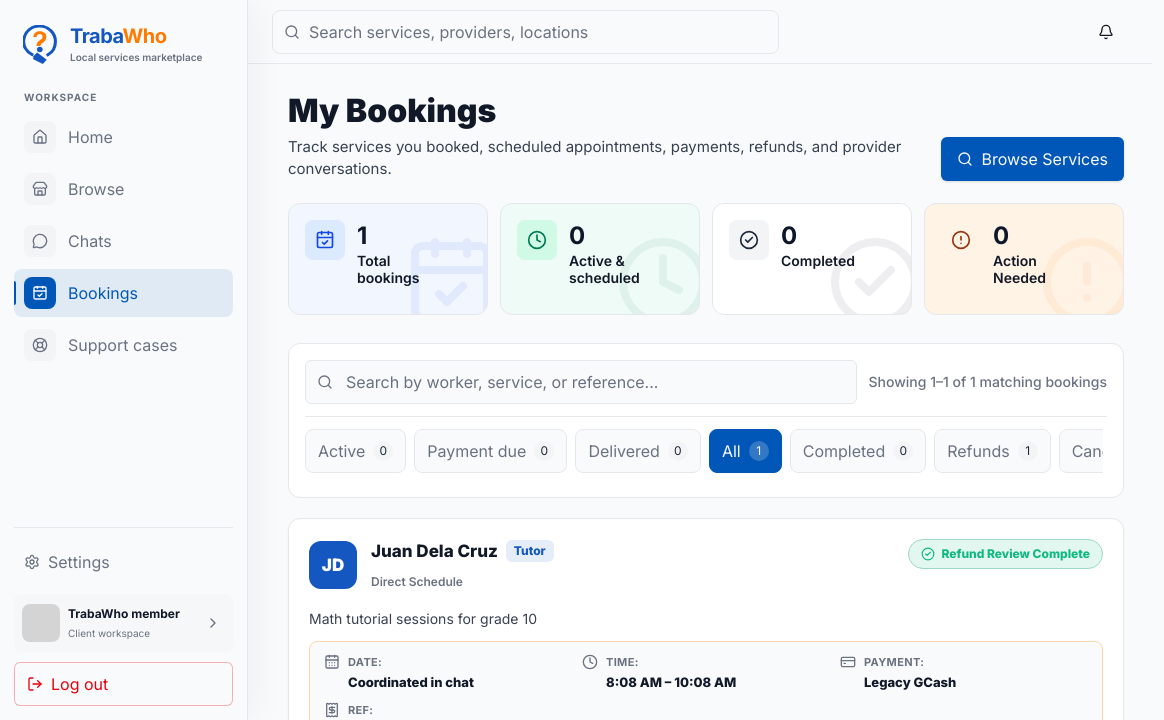
Test case: MyBookings Redesign Component › shows a completed sandbox refund in the purchases Refunds tab and refreshes on selection
Check: the heading "My Bookings" is shown, box [288,91,496,130]
Click the button with aria-label "Refunds, 1" at (992, 451), box [934,429,1051,473]
(page scrolled)
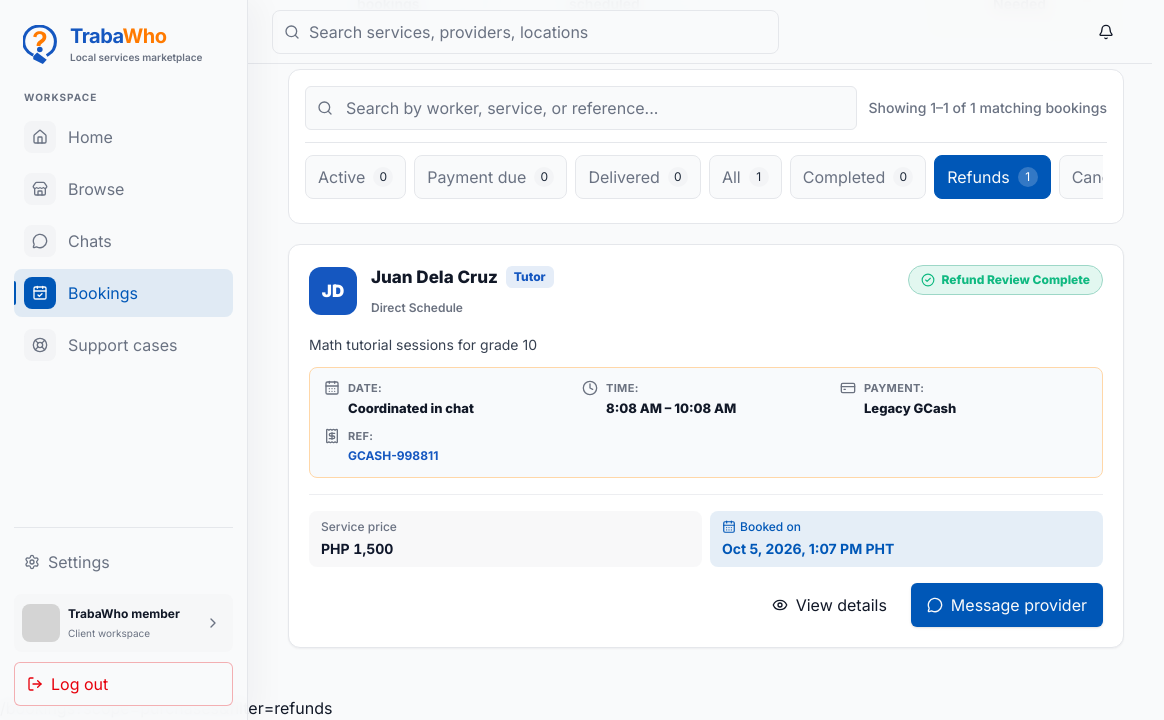
Check: the element with test id "booking-card-b1" is shown, box [288,244,1124,648]
Check: the text with test id "location-probe" shows "filter=refunds", box [0,698,332,718]
